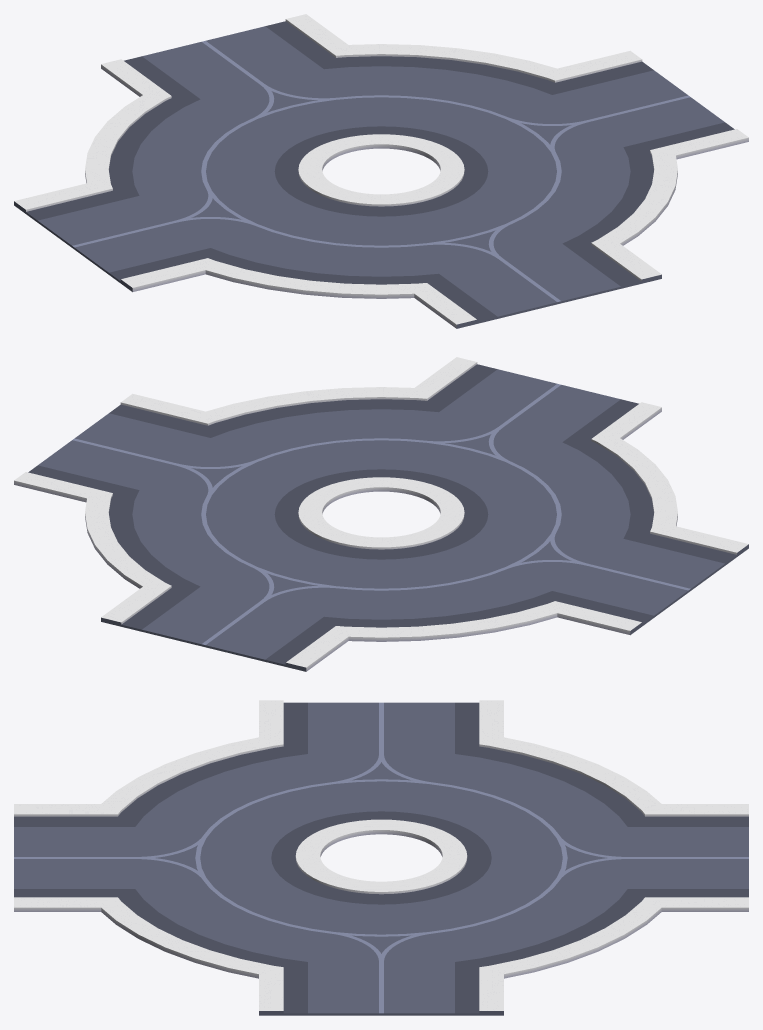
Rendered from road_roundabout.glb.
The picture shows the model from 3 angles, top to bottom: view 1: azimuth 30°, elevation 25°; view 2: azimuth 150°, elevation 25°; view 3: azimuth 270°, elevation 25°; orthographic projection. The views are drawn at different scales.
Parts seen in each view (by area): view 1: road-roundabout; view 2: road-roundabout; view 3: road-roundabout.
Boxes of the visible parts, x1,y1,x2,y2 form: road-roundabout: (14, 14, 748, 328); road-roundabout: (14, 357, 748, 671); road-roundabout: (14, 700, 748, 1015).
Bounding box in the file's own units: 3 × 0.02 × 3.
1 material, 1 textured.
